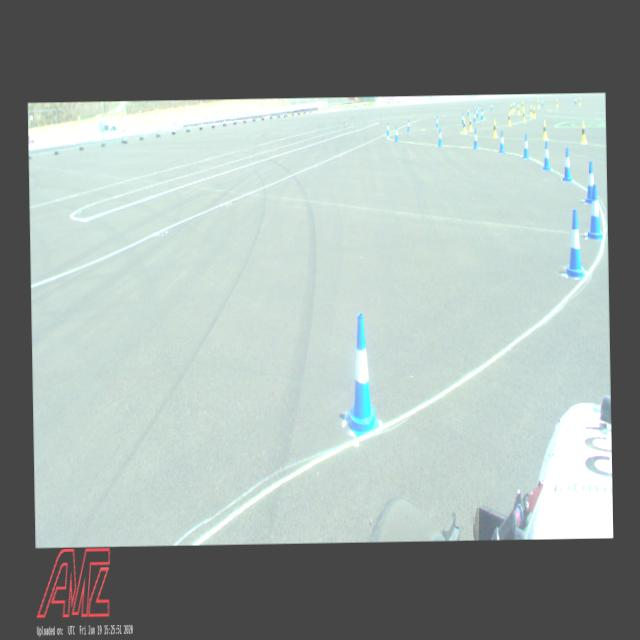blue_cone: (344, 312, 379, 437), (563, 209, 585, 281), (586, 183, 602, 240), (584, 160, 596, 202), (562, 147, 572, 180), (520, 134, 530, 160), (542, 140, 550, 170), (498, 130, 505, 154), (472, 129, 478, 150), (437, 127, 442, 147), (394, 125, 398, 142), (386, 122, 390, 136), (434, 114, 438, 128), (406, 119, 410, 132), (472, 111, 476, 123), (461, 112, 464, 124), (481, 108, 484, 119), (573, 95, 576, 104), (540, 97, 543, 106), (466, 106, 469, 115), (480, 108, 482, 120), (476, 107, 478, 117), (476, 104, 478, 112), (490, 104, 492, 110)
yellow_cone: (580, 120, 586, 144), (541, 120, 547, 140), (491, 120, 497, 138), (461, 118, 466, 134), (506, 111, 511, 125), (468, 116, 472, 132), (532, 105, 536, 118), (522, 109, 526, 122), (516, 104, 520, 114), (536, 99, 540, 108), (554, 98, 558, 106), (512, 102, 515, 112), (521, 101, 524, 110), (530, 104, 532, 116), (510, 103, 512, 113), (578, 96, 580, 105)
